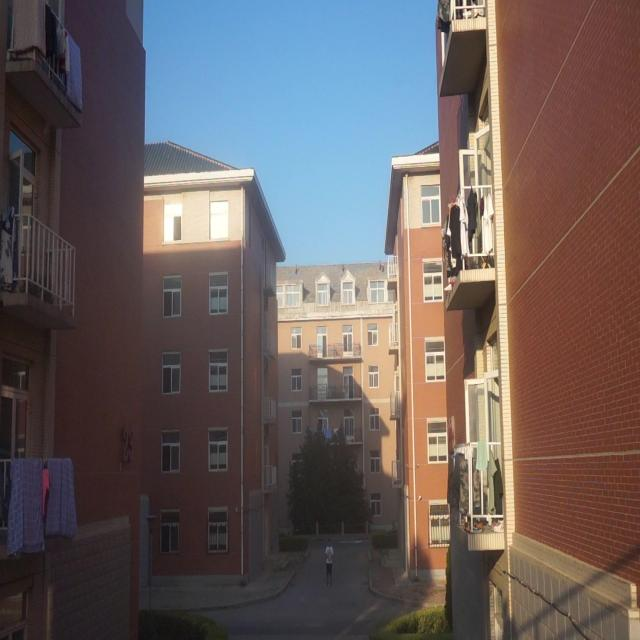UAV: (263, 352, 271, 364)
